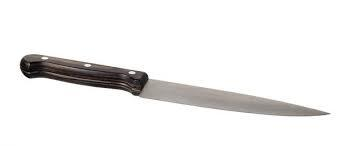Knife: (19, 53, 331, 116)
